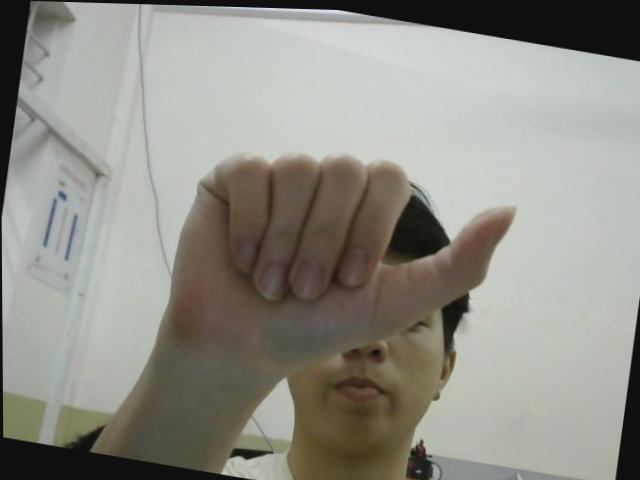A: (162, 123, 520, 385)
